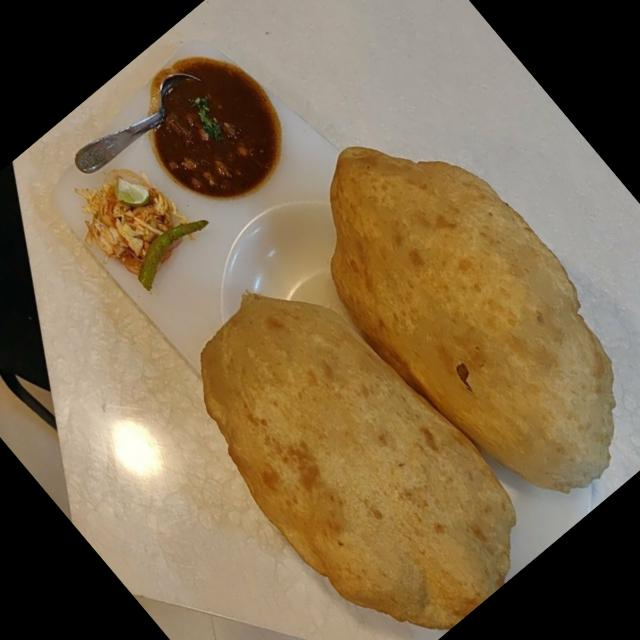Bhatura: (115, 87, 640, 640)
